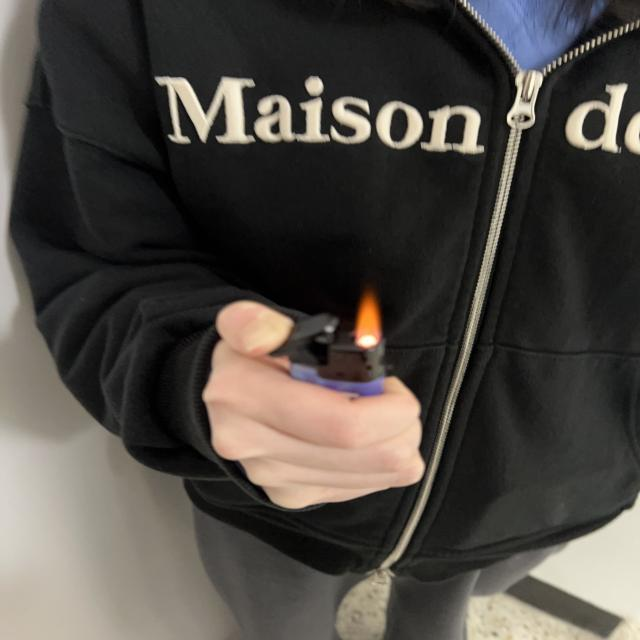fire: (357, 288, 382, 349)
